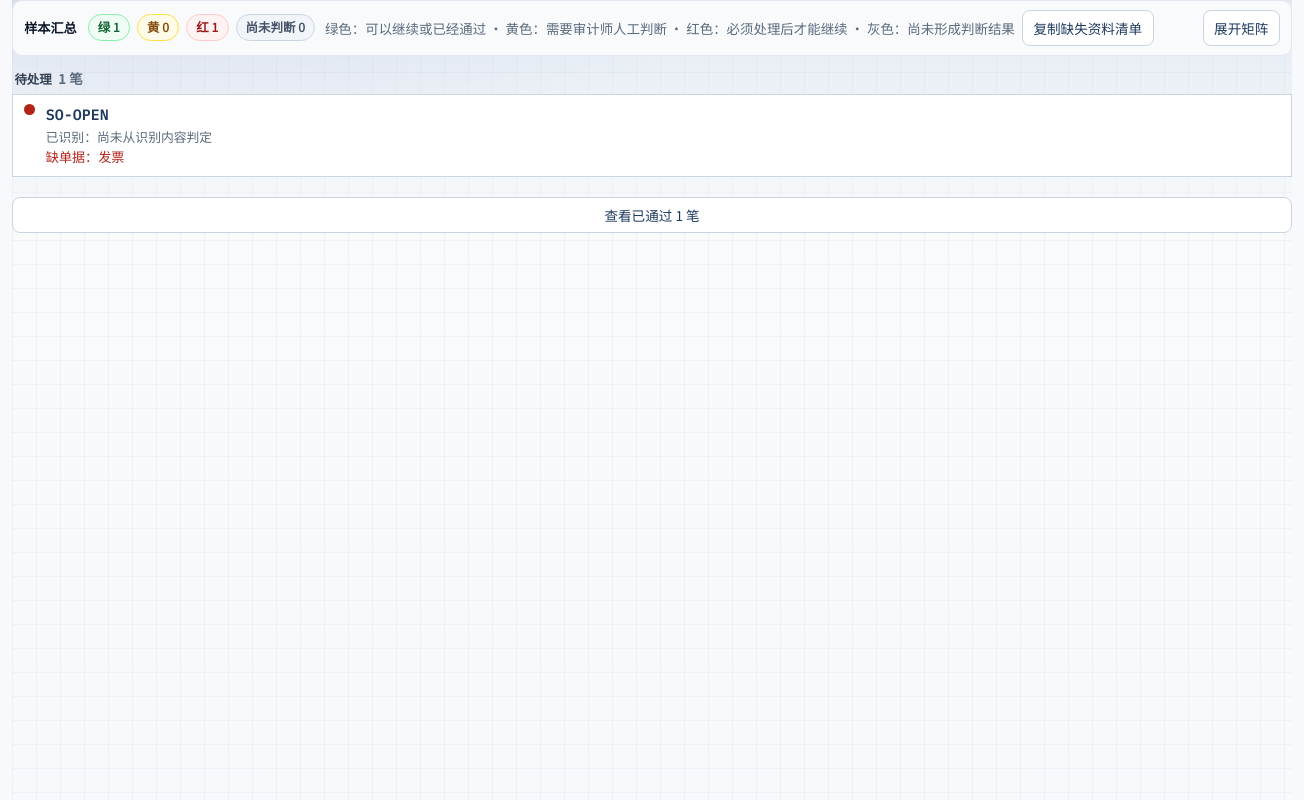
it: hides auto-passed rows until 查看已通过 is pressed
Expected: the text "SO-OPEN" is shown, [46, 104, 109, 126]
Expected: the text "SO-PASSED" is not shown
Click the button "查看已通过 1 笔": (652, 215) [12, 197, 1292, 233]
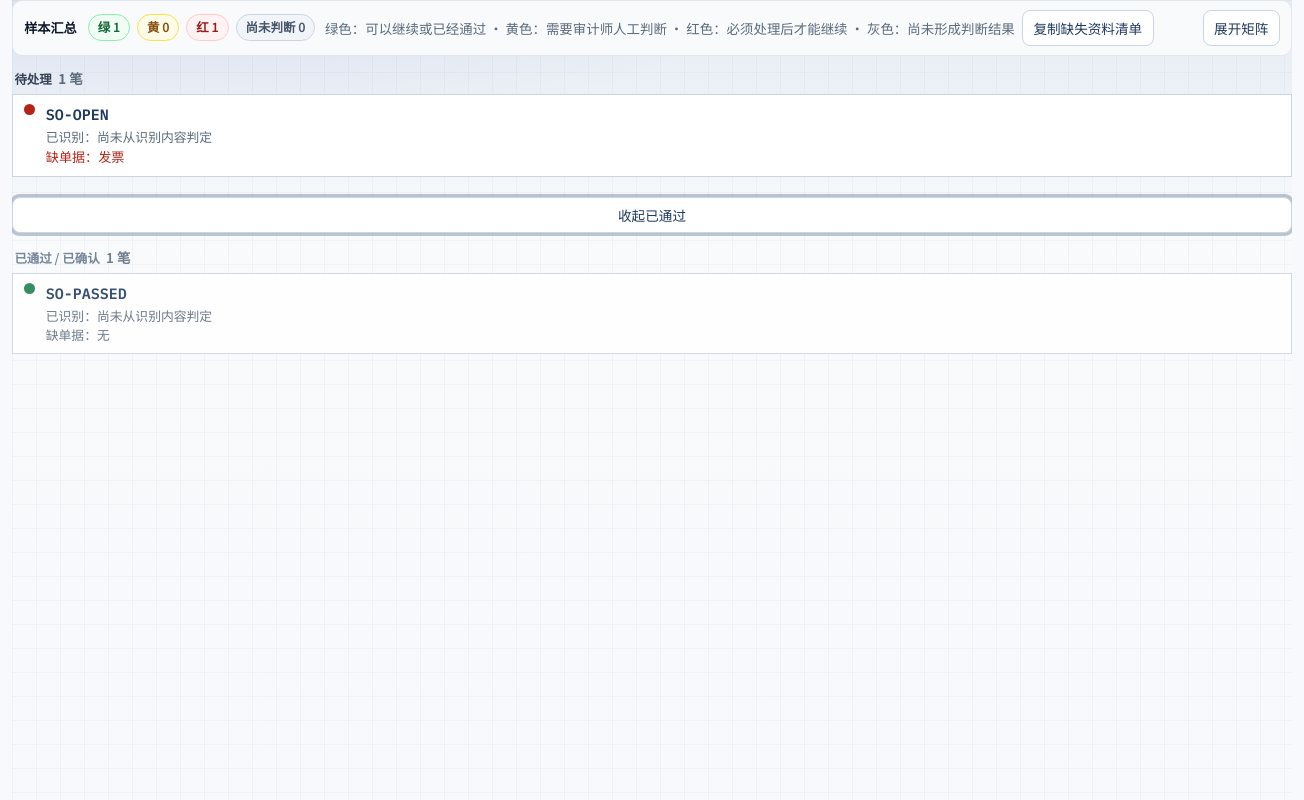
Expected: the text "SO-PASSED" is shown, [46, 283, 127, 305]
